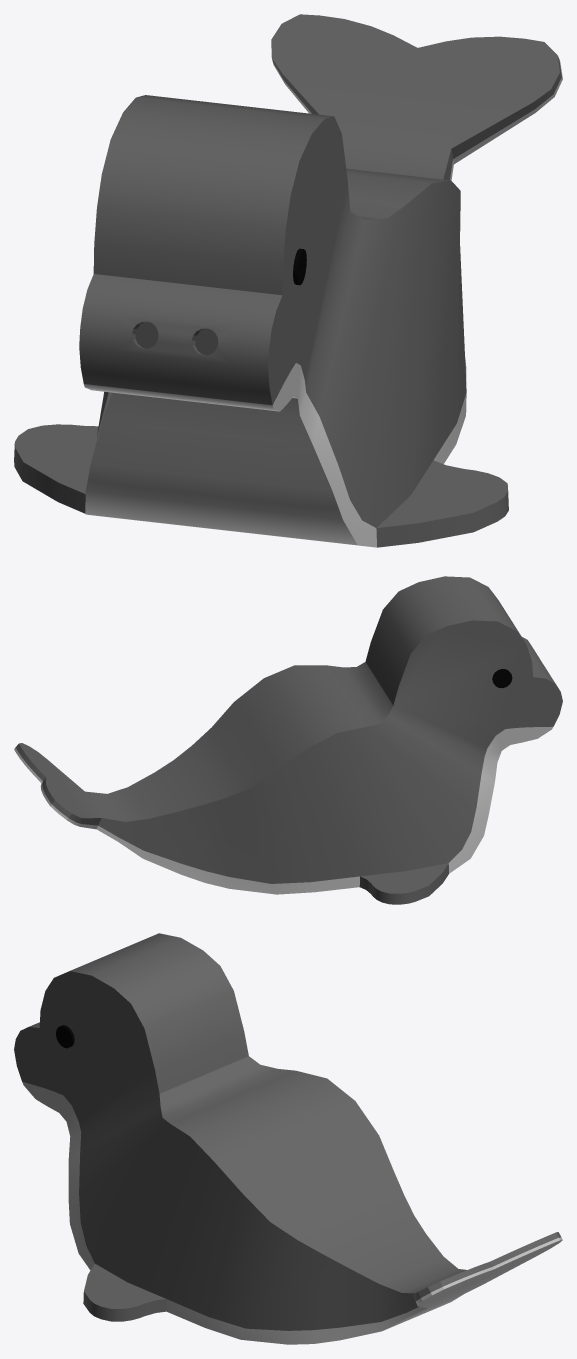
Rendered from seal.glb.
3 views of the same model, one above another, from view 1: azimuth 30°, elevation 25°; view 2: azimuth 150°, elevation 25°; view 3: azimuth 270°, elevation 25° (orthographic). The views are drawn at different scales.
Visible parts, largest first — view 1: Plane.169; view 2: Plane.169; view 3: Plane.169.
Part boxes in pixels (bbox=[...]): Plane.169: bbox=[14, 14, 562, 547]; Plane.169: bbox=[14, 576, 562, 904]; Plane.169: bbox=[14, 933, 562, 1344].
Size of the model in its own units: 2.28 by 1.28 by 2.28.
1 material, 1 textured.
